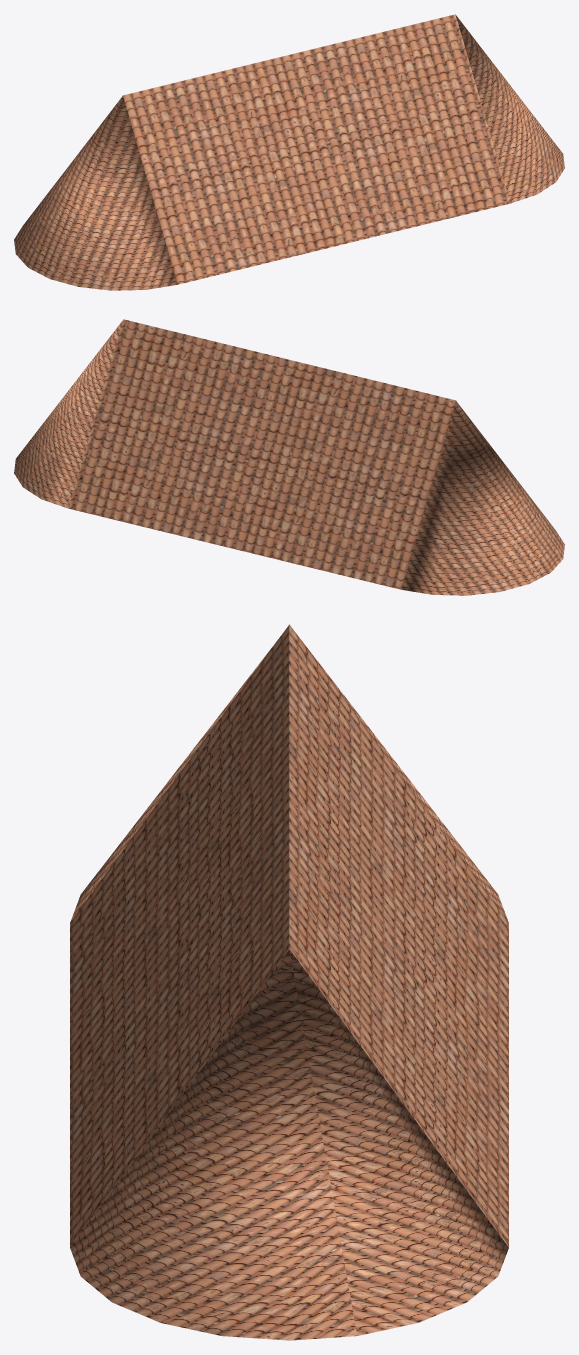
The model's file is rooftop.fbx.
The picture shows the model from 3 angles, top to bottom: view 1: azimuth 30°, elevation 25°; view 2: azimuth 150°, elevation 25°; view 3: azimuth 270°, elevation 25°; orthographic projection. The views are drawn at different scales.
Parts seen in each view (by area): view 1: pCone3; view 2: pCone3; view 3: pCone3.
Boxes of the visible parts, bbox=[...] form: pCone3: bbox=[14, 14, 564, 290]; pCone3: bbox=[14, 319, 564, 595]; pCone3: bbox=[70, 624, 508, 1340].
Size of the model in its own units: 1100 by 300 by 400.
1 material, 1 textured.
